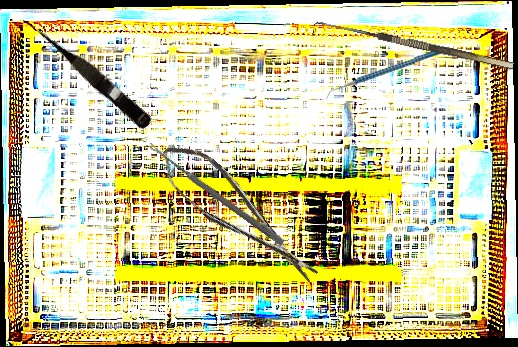Chopper: (325, 46, 447, 102)
Hook Surgical: (312, 16, 514, 81)
Micro Scissor: (150, 130, 327, 300), (28, 17, 157, 132)
Surgical Spoon: (146, 141, 286, 247)
